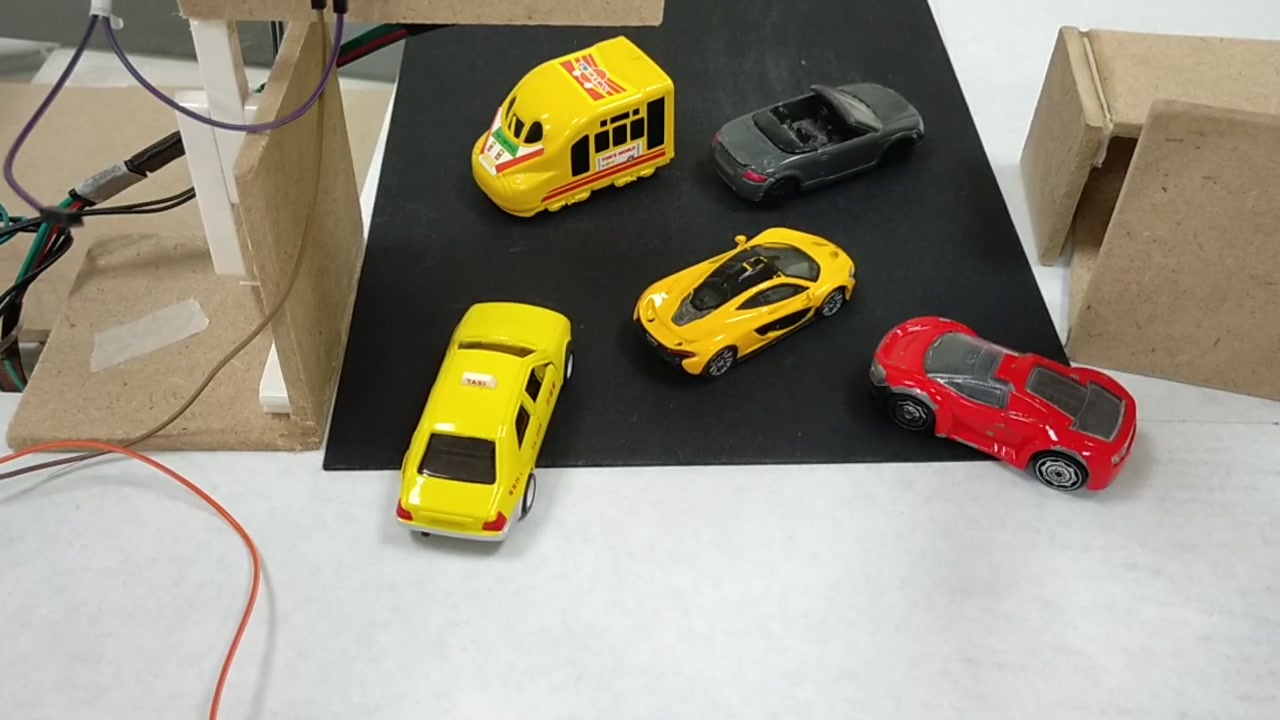car: (858, 307, 1139, 503), (391, 306, 576, 534), (624, 228, 857, 372), (715, 75, 921, 201)
